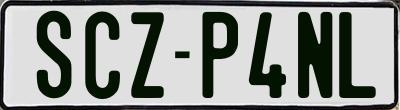4: (248, 11, 286, 97)
C: (82, 11, 122, 105)
L: (338, 12, 378, 101)
N: (296, 9, 335, 98)
P: (202, 12, 243, 98)
S: (35, 11, 74, 104)
Z: (131, 9, 170, 95)
